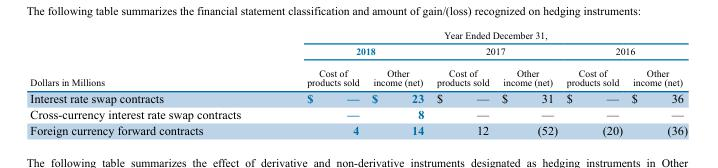table: (29, 28, 687, 136)
table column: (29, 28, 273, 136), (273, 28, 364, 136), (494, 28, 561, 136), (364, 28, 429, 136), (429, 28, 494, 136), (561, 28, 626, 136), (626, 28, 687, 136)
table column header: (29, 28, 687, 89)
table row: (29, 61, 687, 89), (29, 42, 687, 61), (29, 89, 687, 105), (29, 105, 687, 121), (29, 121, 687, 136), (29, 28, 687, 42)
table spanning cell: (29, 28, 273, 89), (273, 28, 687, 42), (273, 42, 429, 61), (429, 42, 561, 61), (561, 42, 687, 61)
